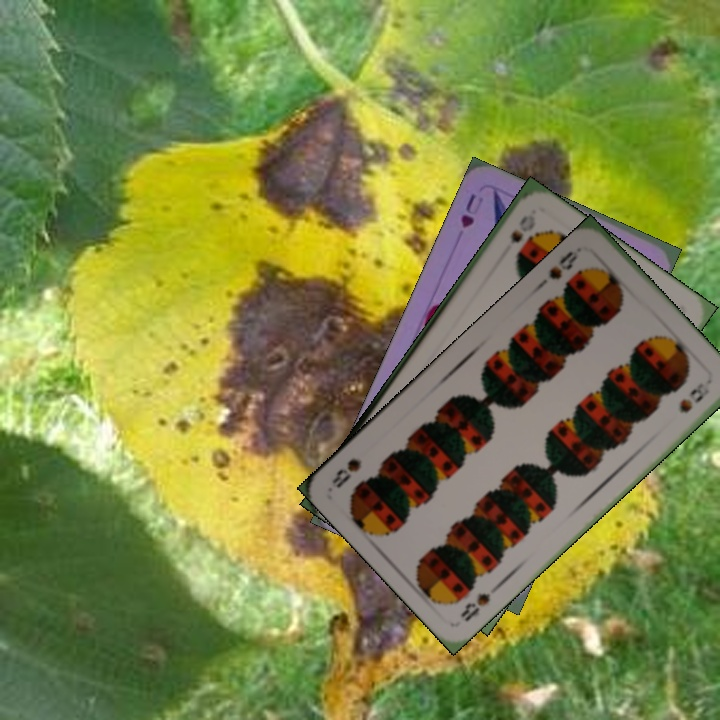HU: (456, 189, 486, 231)
S8: (456, 579, 503, 625), (544, 246, 581, 283)
SO: (506, 210, 538, 246)
